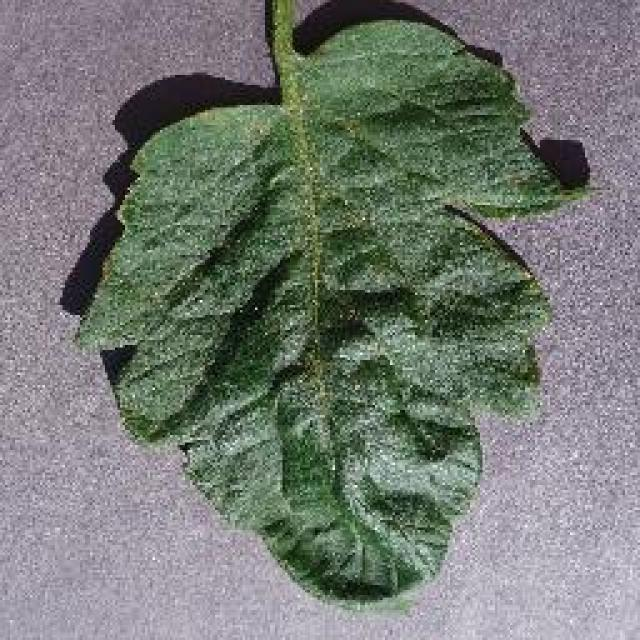Tomato___Target_Spot: (78, 0, 585, 605)
